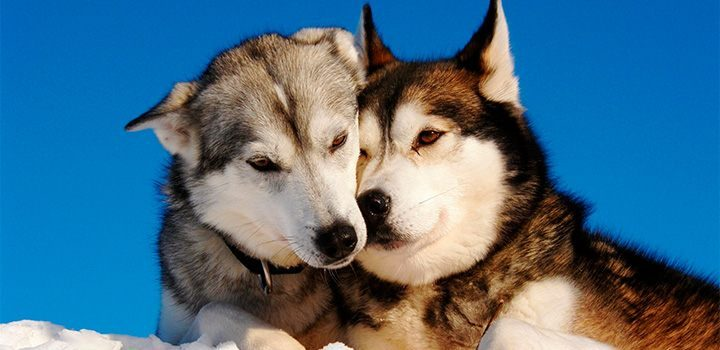husky: (109, 24, 368, 278), (354, 3, 537, 332)
